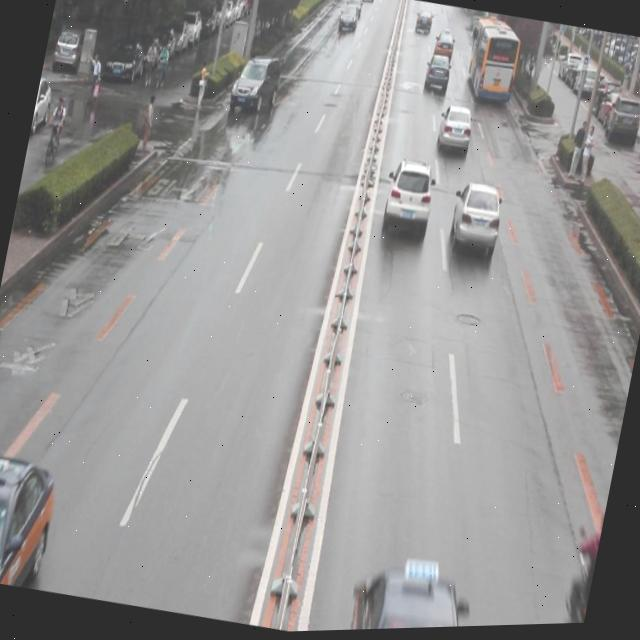car: (347, 550, 485, 632), (0, 440, 61, 588), (378, 159, 438, 243), (446, 182, 504, 261), (432, 103, 478, 164)
truck: (229, 52, 282, 116)
